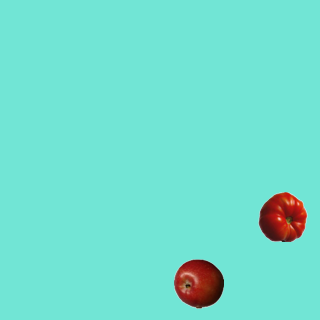Apple Braeburn: (173, 258, 223, 308)
Tomato 3: (257, 191, 307, 241)
